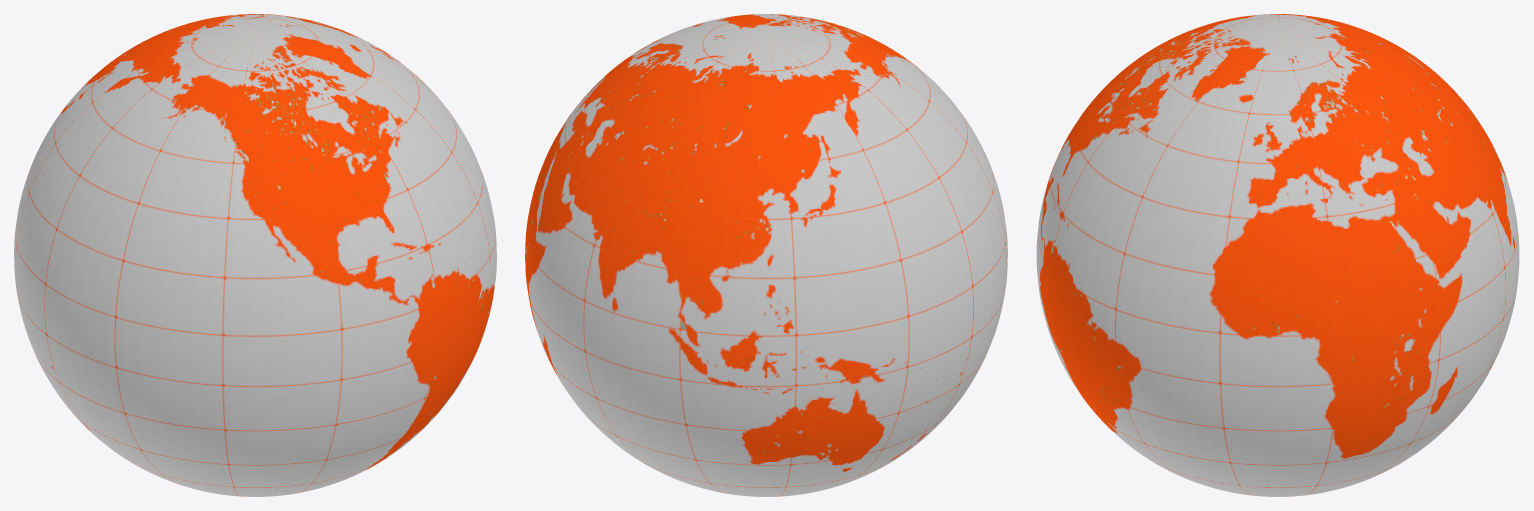
The model's file is gray.glb.
3 views of the same model, side by side, from view 1: azimuth 30°, elevation 25°; view 2: azimuth 150°, elevation 25°; view 3: azimuth 270°, elevation 25° (orthographic).
Visible parts, largest first — view 1: Sphere; view 2: Sphere; view 3: Sphere.
Boxes of the visible parts, x1,y1,x2,y2 form: Sphere: [14, 14, 496, 496]; Sphere: [525, 14, 1007, 496]; Sphere: [1036, 14, 1519, 496].
Bounding box in the file's own units: 4.65 × 4.65 × 4.65.
Materials: 1 (1 with a texture image).
